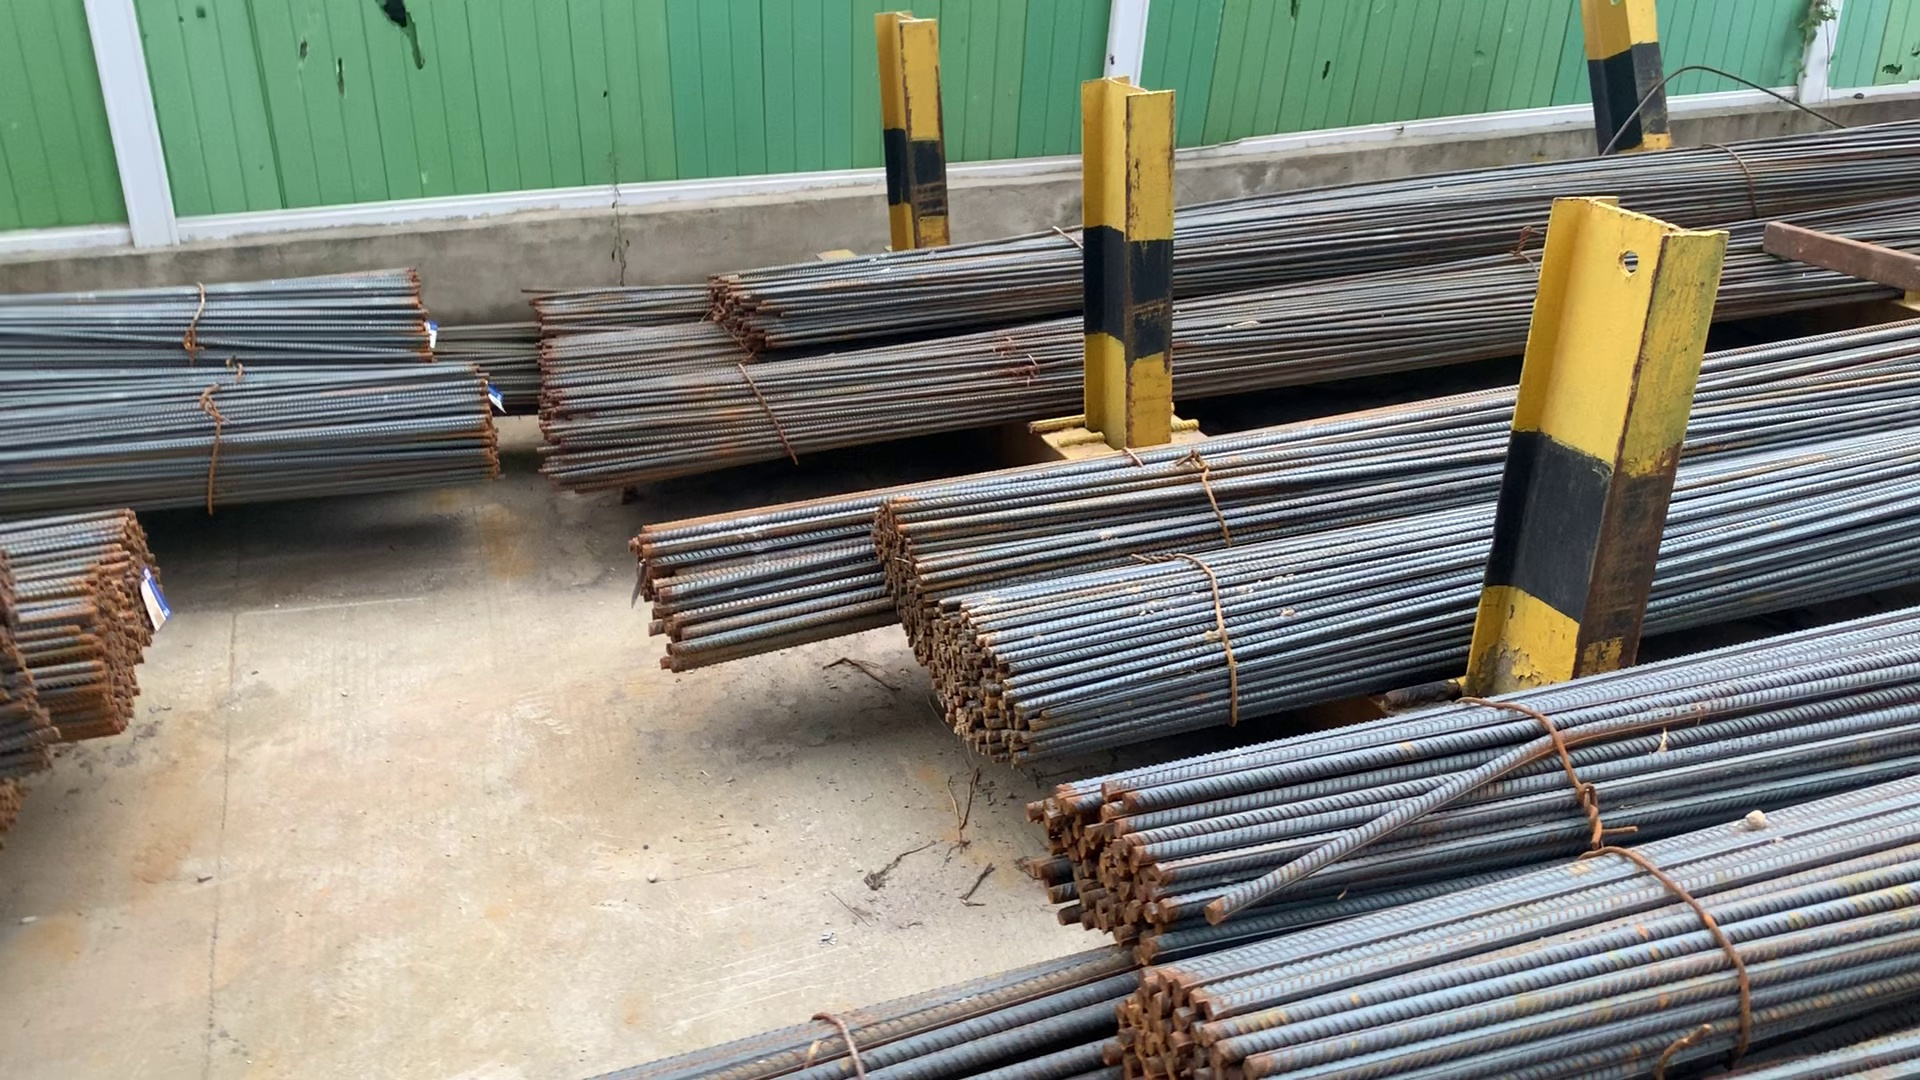rebar: (1033, 775, 1188, 963), (1102, 964, 1273, 1080), (924, 607, 1035, 758), (618, 520, 715, 676), (862, 492, 927, 659), (73, 596, 149, 729), (104, 518, 171, 650), (702, 273, 781, 357)
